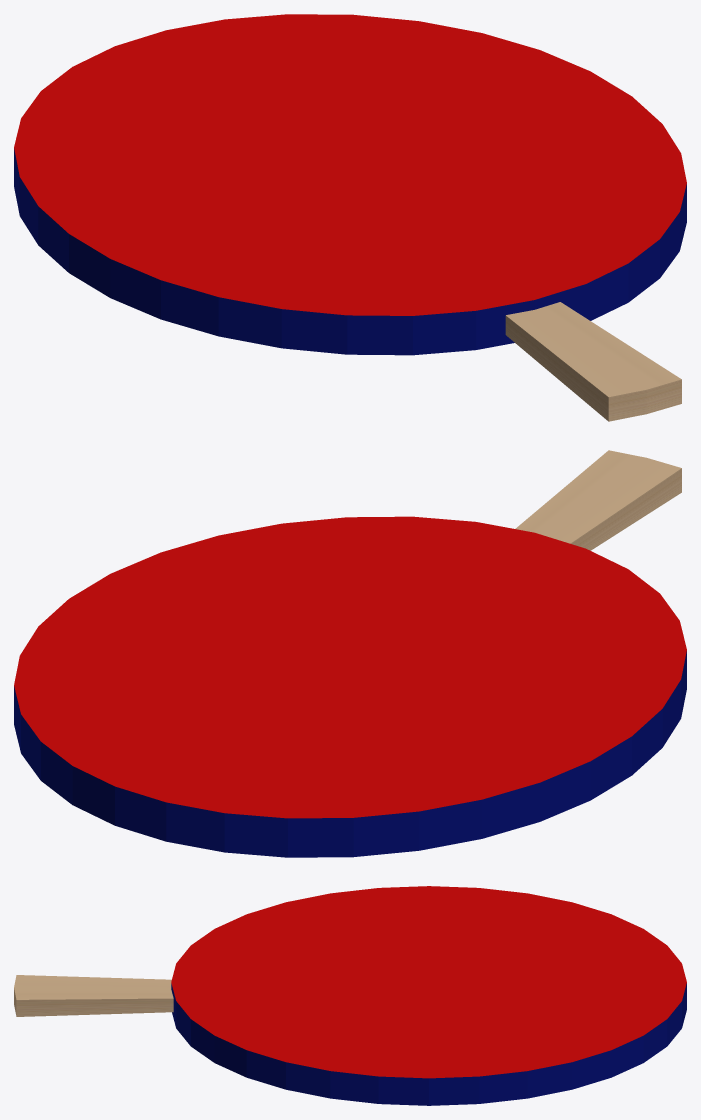
Rendered from racket.obj.
3 views of the same model, one above another, from view 1: azimuth 30°, elevation 25°; view 2: azimuth 150°, elevation 25°; view 3: azimuth 270°, elevation 25° (orthographic). The views are drawn at different scales.
Parts seen in each view (by area): view 1: racket_Cylinder.001; view 2: racket_Cylinder.001; view 3: racket_Cylinder.001.
Boxes of the visible parts, x1,y1,x2,y2 form: racket_Cylinder.001: [14, 14, 686, 421]; racket_Cylinder.001: [14, 450, 686, 857]; racket_Cylinder.001: [14, 886, 686, 1105].
Bounding box in the file's own units: 0.15 × 0.01 × 0.2218.
1 material, 1 textured.
